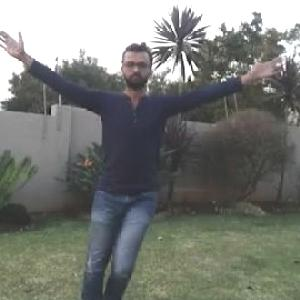takeoff: (15, 38, 292, 292)
